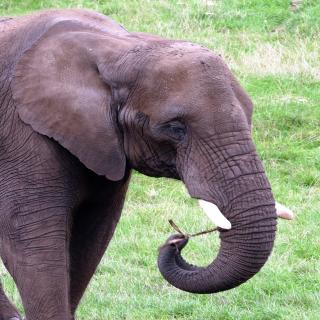Elephant: (0, 6, 296, 320)
